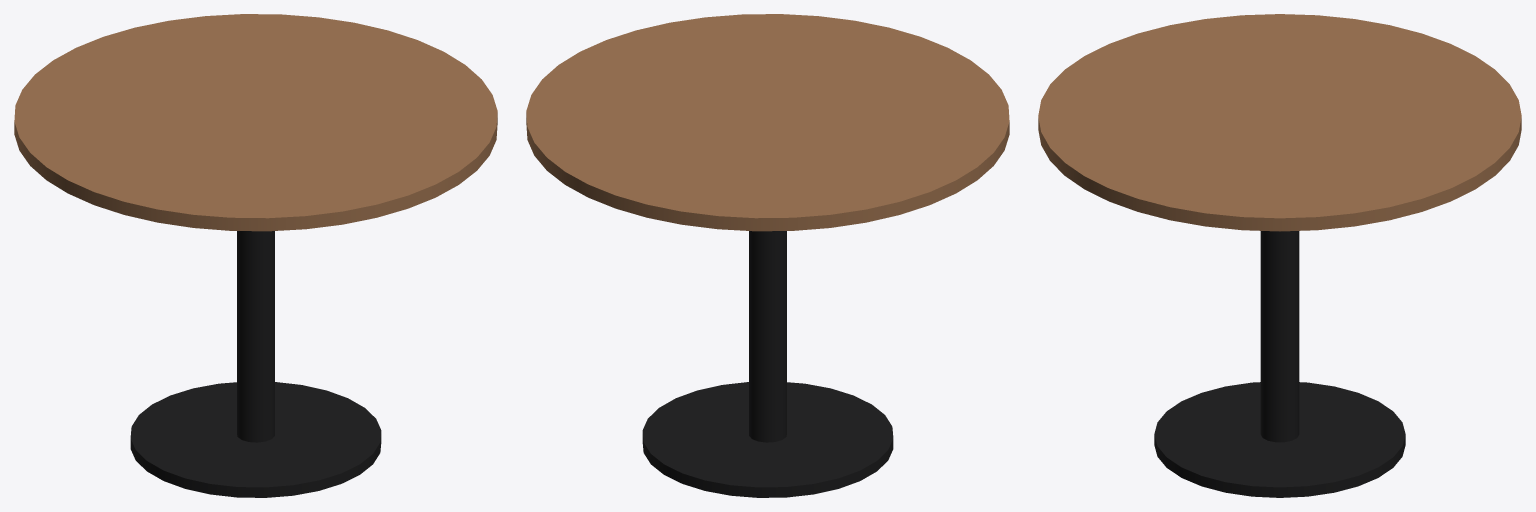
File: 21_stol_okragly_100.glb
The picture shows the model from 3 angles, left to right: view 1: azimuth 30°, elevation 25°; view 2: azimuth 150°, elevation 25°; view 3: azimuth 270°, elevation 25°; orthographic projection.
Visible parts, largest first — view 1: Stol_blat, Stol_podstawa, Stol_noga; view 2: Stol_blat, Stol_podstawa, Stol_noga; view 3: Stol_blat, Stol_podstawa, Stol_noga.
Boxes of the visible parts, x1=… form: Stol_blat: x1=14, y1=14, x2=497, y2=231; Stol_podstawa: x1=130, y1=382, x2=381, y2=497; Stol_noga: x1=237, y1=231, x2=274, y2=442; Stol_blat: x1=526, y1=14, x2=1009, y2=231; Stol_podstawa: x1=642, y1=382, x2=893, y2=497; Stol_noga: x1=749, y1=231, x2=786, y2=442; Stol_blat: x1=1038, y1=14, x2=1521, y2=231; Stol_podstawa: x1=1154, y1=382, x2=1405, y2=497; Stol_noga: x1=1260, y1=231, x2=1299, y2=442.
Bounding box in the file's own units: 1 × 0.75 × 1.
